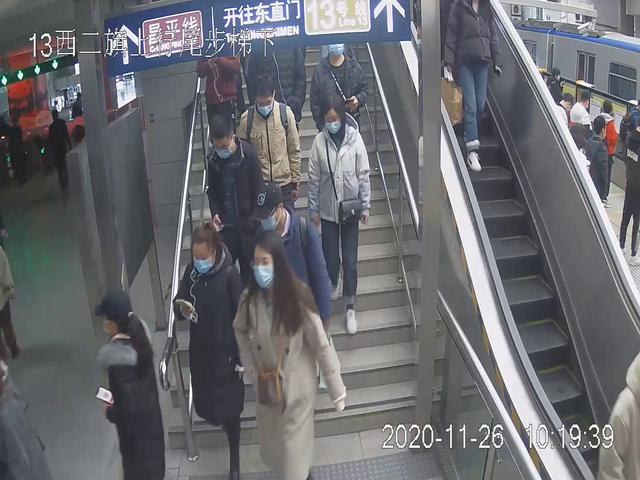person: (231, 234, 351, 480), (172, 222, 259, 480), (303, 91, 375, 338), (90, 283, 169, 480), (435, 1, 509, 177), (232, 69, 307, 225), (200, 107, 262, 277)
